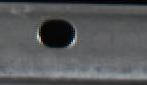holes: (36, 16, 78, 50)
